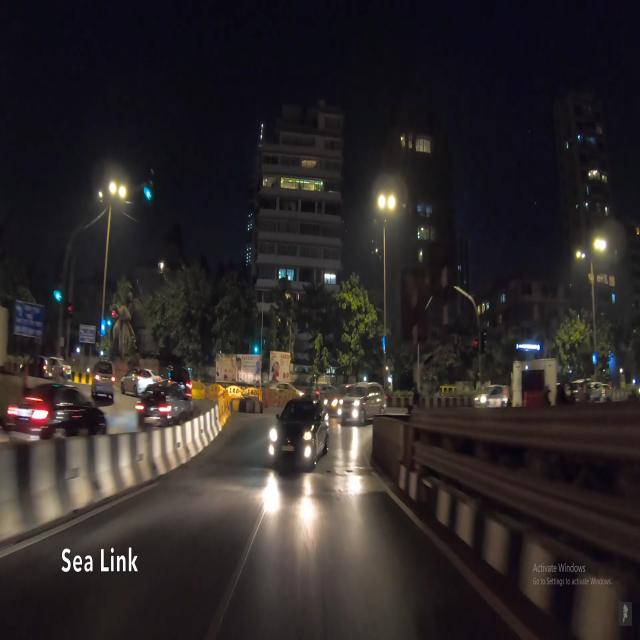headlights: (264, 423, 320, 467), (337, 395, 361, 422)
